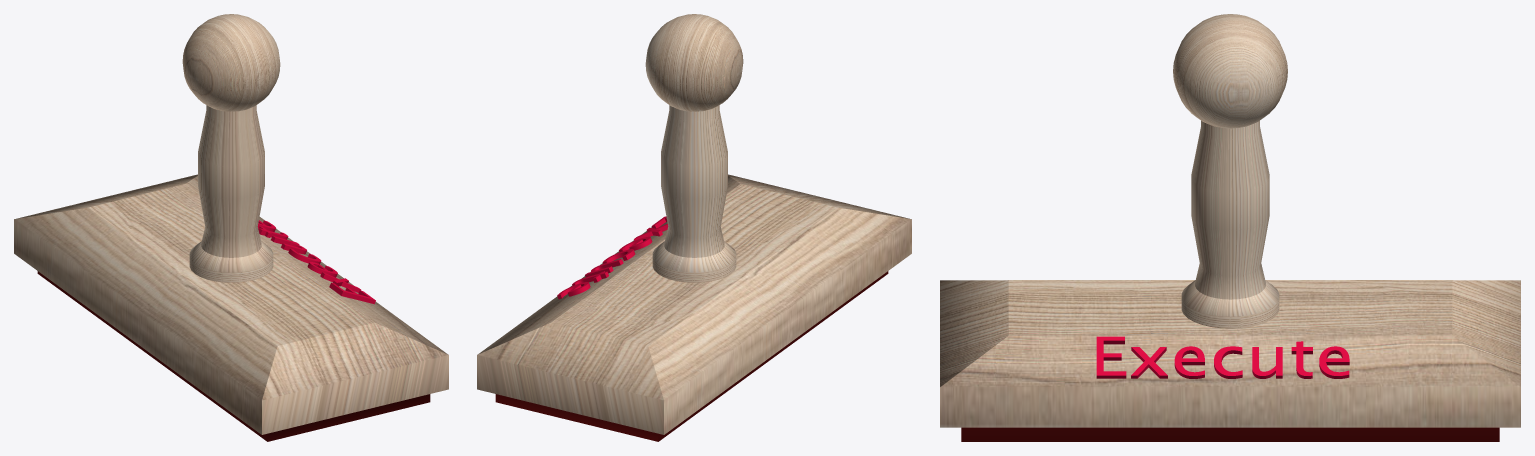
File: Execute stamp.fbx
3 views of the same model, side by side, from view 1: azimuth 30°, elevation 25°; view 2: azimuth 150°, elevation 25°; view 3: azimuth 270°, elevation 25° (orthographic). The views are drawn at different scales.
Visible parts, largest first — view 1: pSphere2; view 2: pSphere2; view 3: pSphere2.
Part boxes in pixels (x1,y1,x2,y2): pSphere2: (14,14,448,441); pSphere2: (477,14,911,441); pSphere2: (940,14,1520,441).
Size of the model in its own units: 0.5275 by 0.883 by 1.21.
